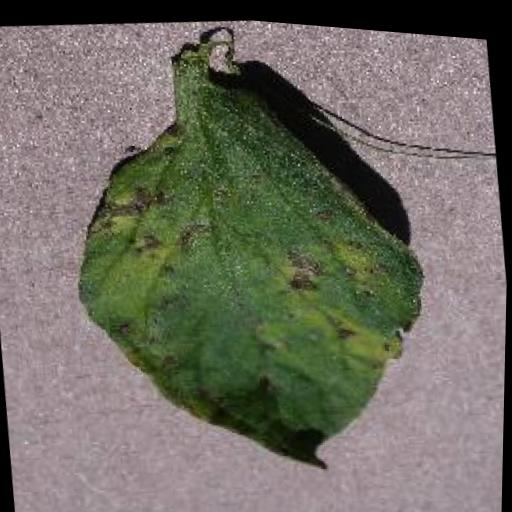Septoria: (60, 57, 446, 496)
